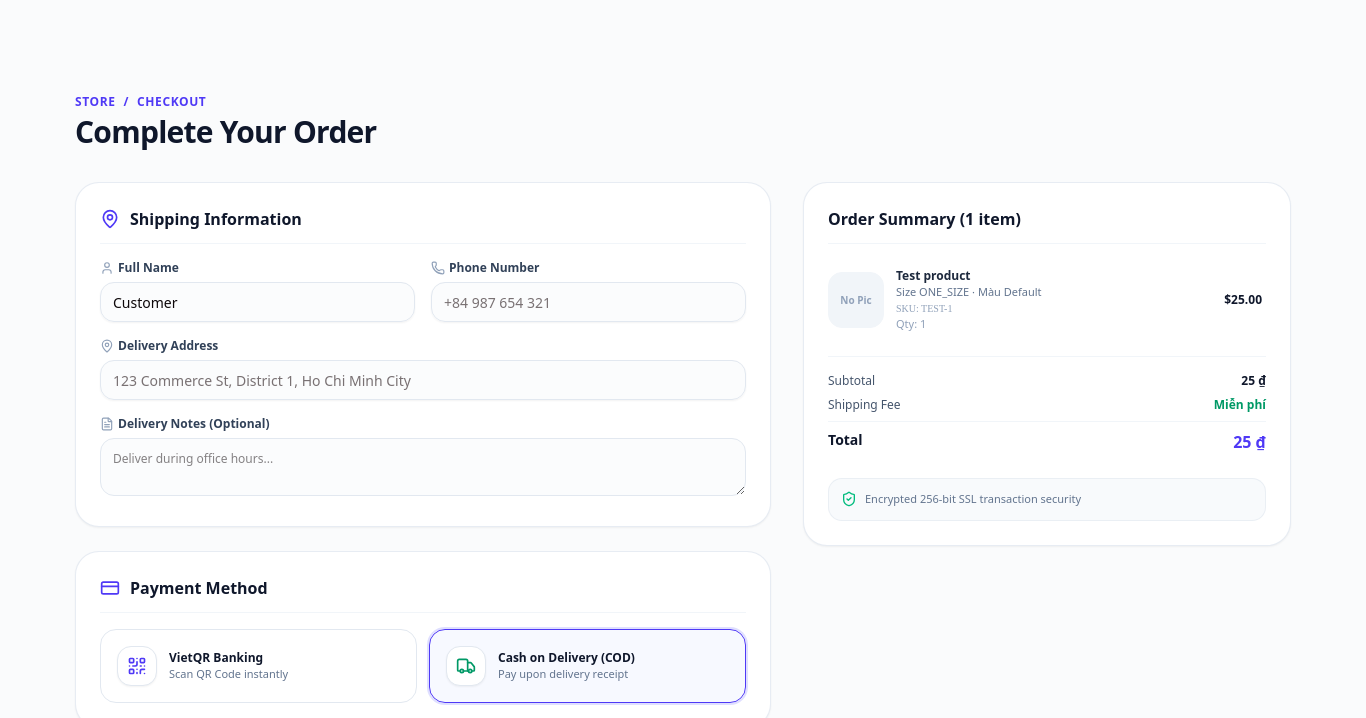
Test: keeps the cart and entered fields after checkout failure
Check: the field with placeholder "John Doe" holds "Customer", box [100,282,415,322]
Type "0987654321" into the field with placeholder "+84 987 654 321" at (588, 302), box [431,282,746,322]
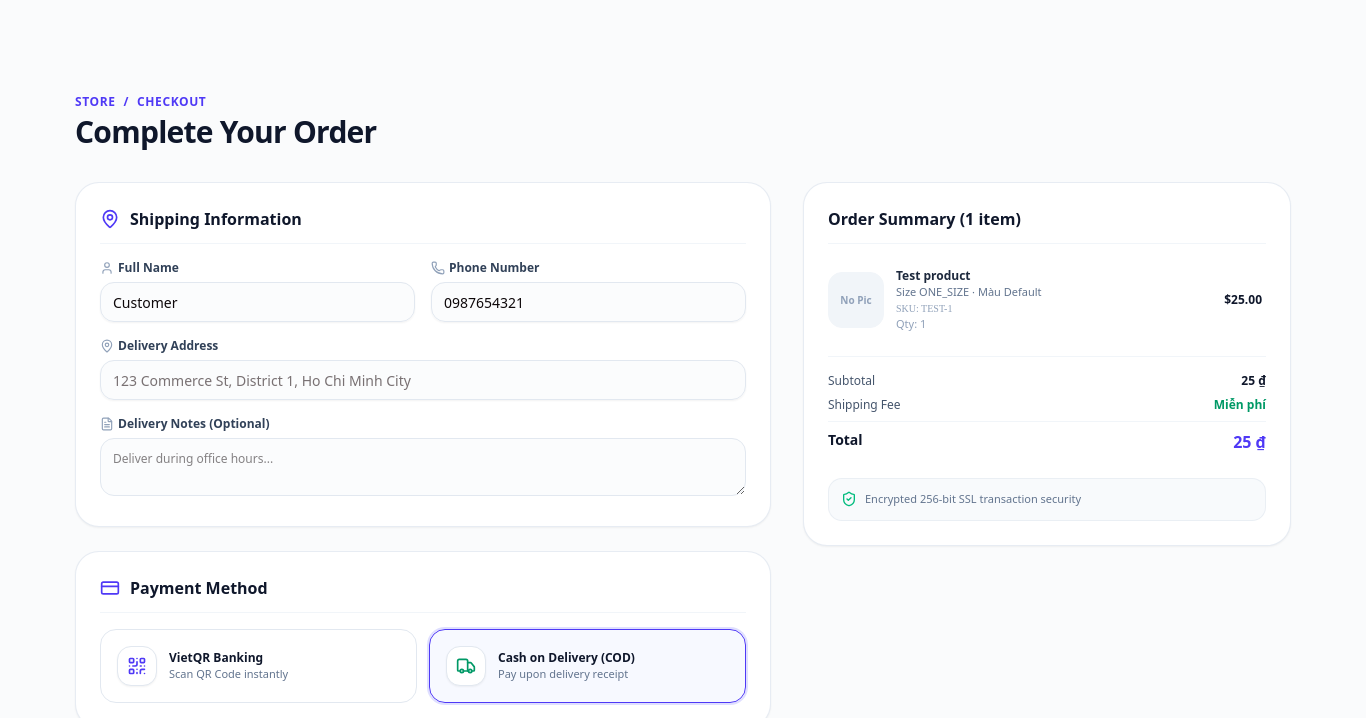
Type "123 Test Street" into the field with placeholder "123 Commerce St, District 1, Ho Chi Minh City" at (423, 380), box [100,360,746,400]
(page scrolled)
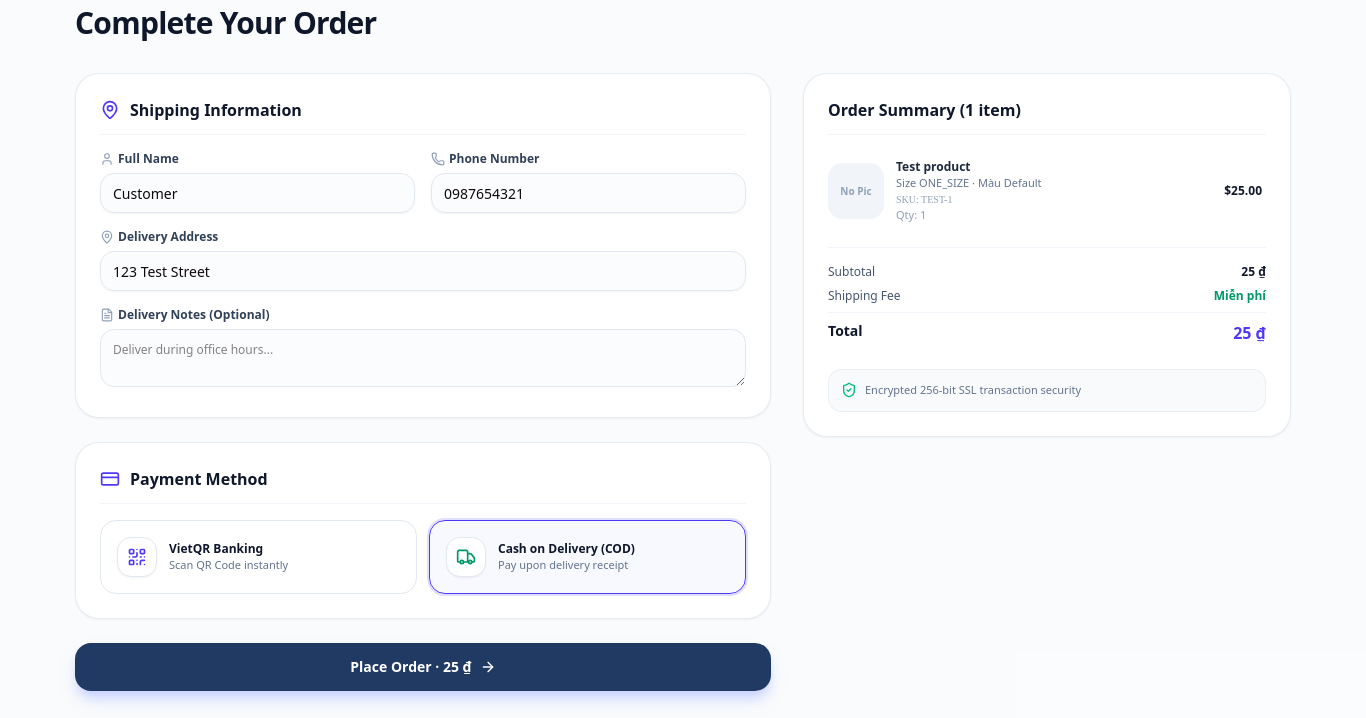
Submit the form, box [75,73,771,691]
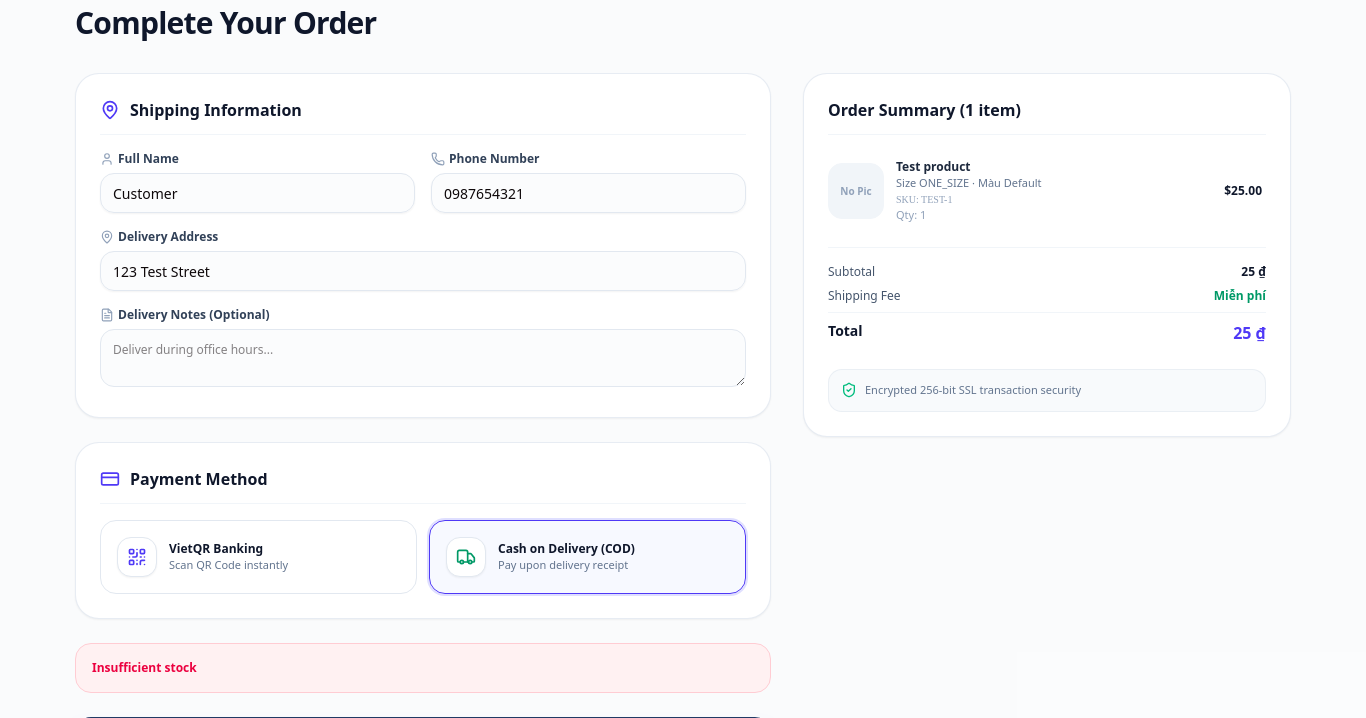
Check: the field with placeholder "John Doe" below "Full Name" holds "Customer", box [100,173,415,213]
Check: the text "Insufficient stock" is shown, box [75,643,771,693]
